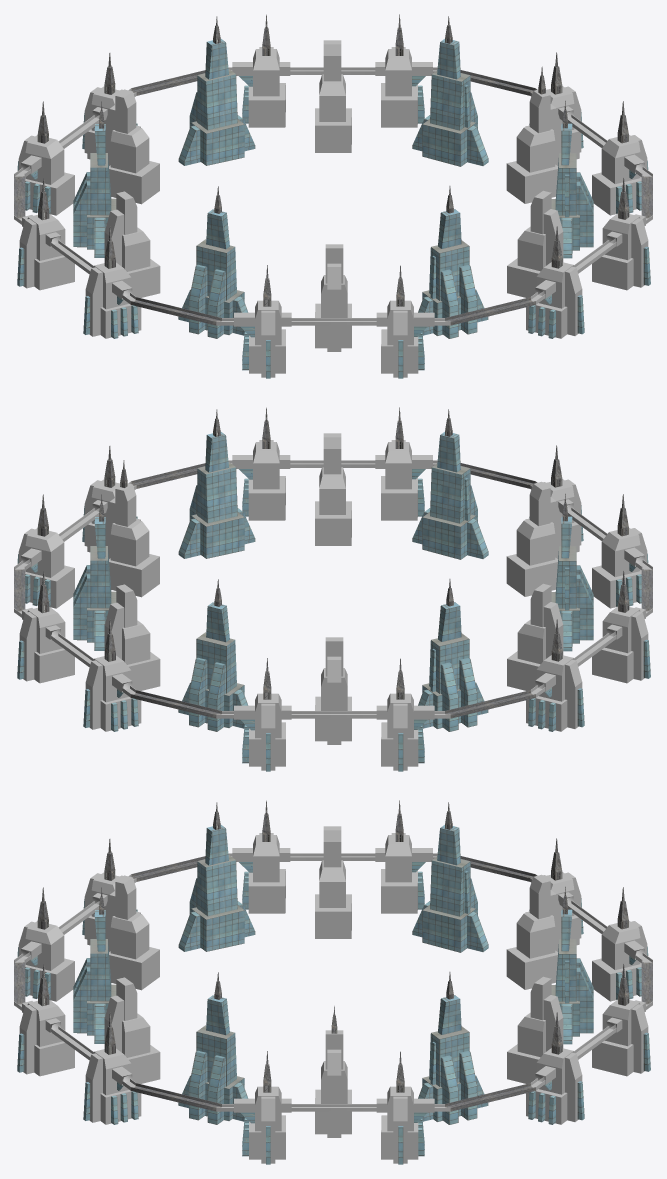
The model's file is town_part1.fbx.
The picture shows the model from 3 angles, top to bottom: view 1: azimuth 30°, elevation 25°; view 2: azimuth 150°, elevation 25°; view 3: azimuth 270°, elevation 25°; orthographic projection.
Visible parts, largest first — view 1: town_part1; view 2: town_part1; view 3: town_part1.
Boxes of the visible parts, box(x1,y1,x2,y2) form: town_part1: box(14, 14, 652, 378); town_part1: box(14, 407, 652, 771); town_part1: box(14, 800, 652, 1164).
Size of the model in its own units: 11188 by 2666 by 10952.
